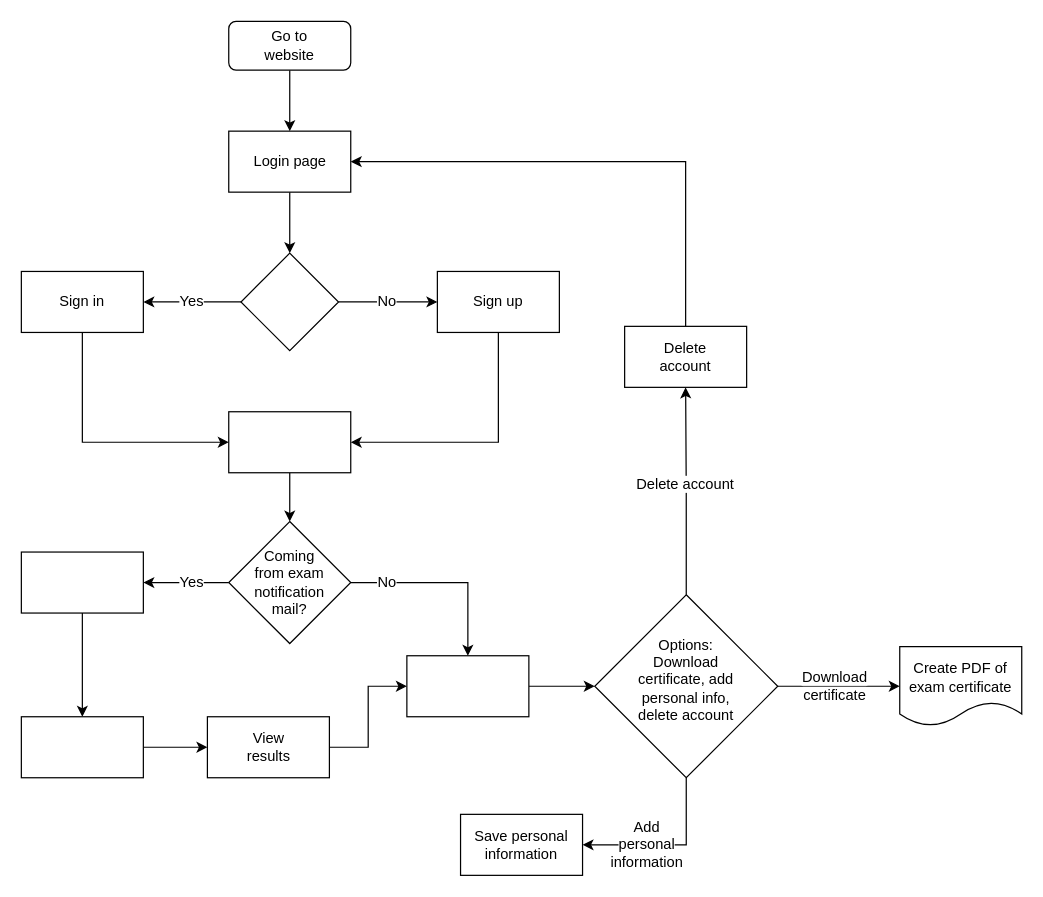
Image size: 1043x897. Some labels were removed from this diagram. The box of each missing label's shape, as (x1, y1, x2, y2) in pixels:
Exam: (20, 551, 143, 613)
Finish exam: (20, 716, 143, 778)
Has account?: (240, 252, 339, 351)
Profile page: (406, 655, 529, 717)
Signing in: (228, 411, 351, 473)
